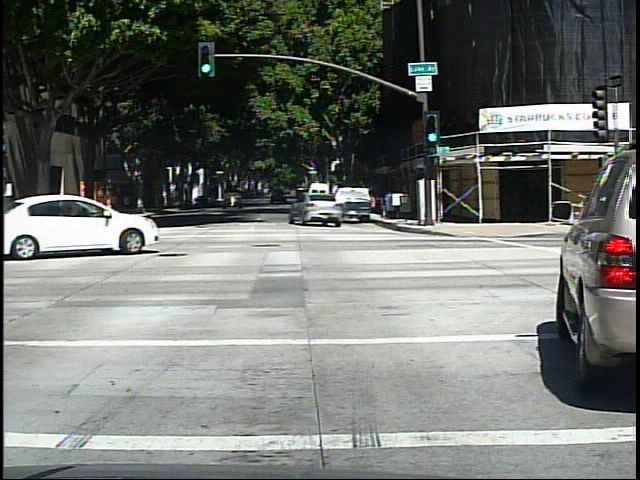person: (101, 187, 113, 217)
